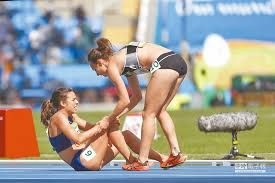falling: (38, 83, 178, 171)
